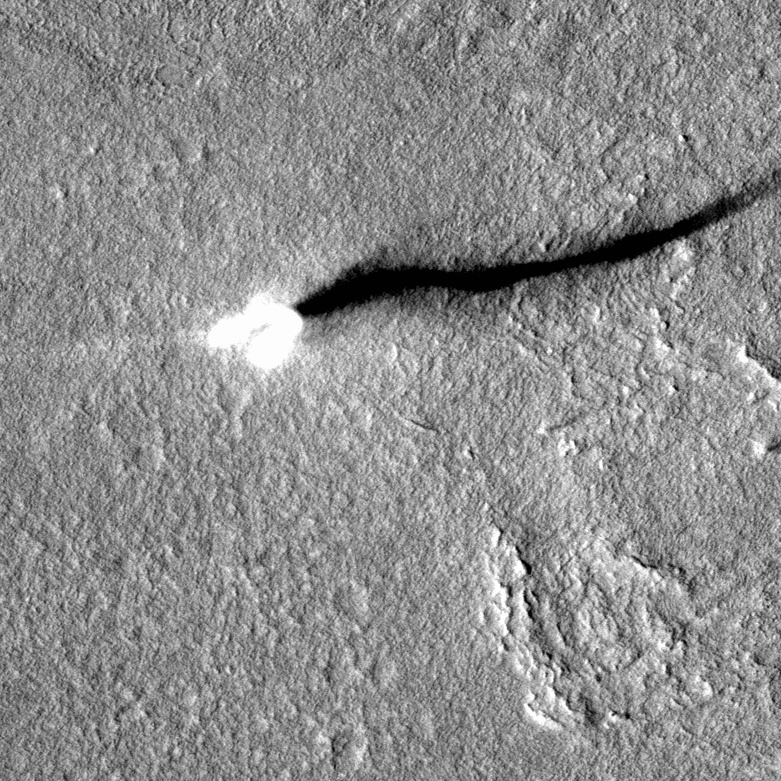dust_devil: (201, 161, 781, 374)
